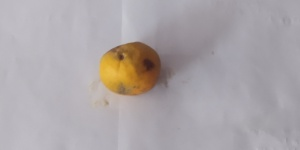BAD: (99, 41, 163, 97)
